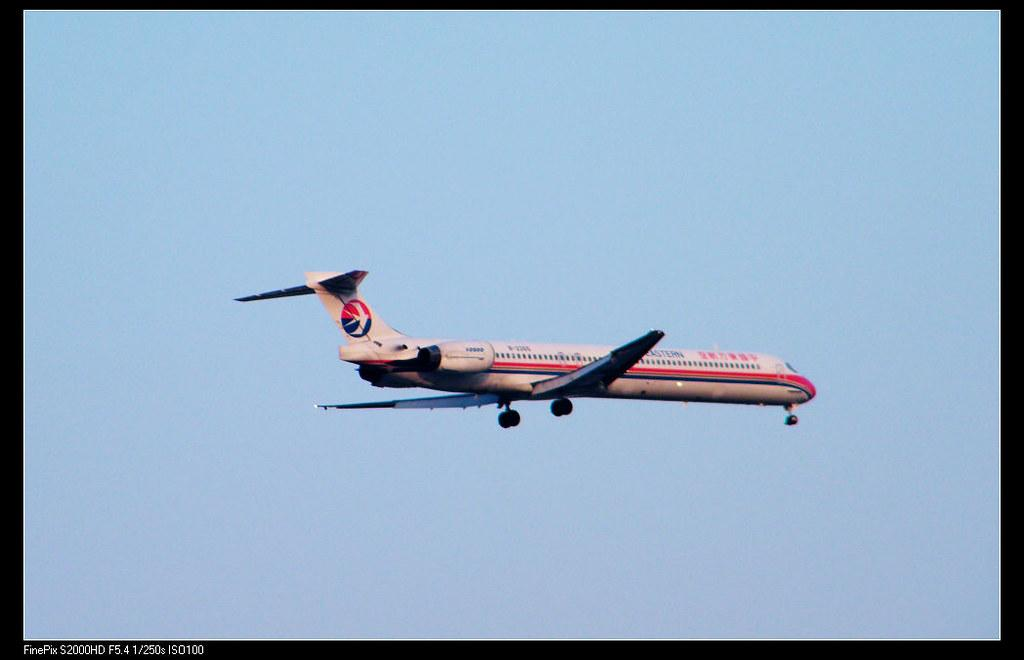plane: (232, 269, 817, 429)
